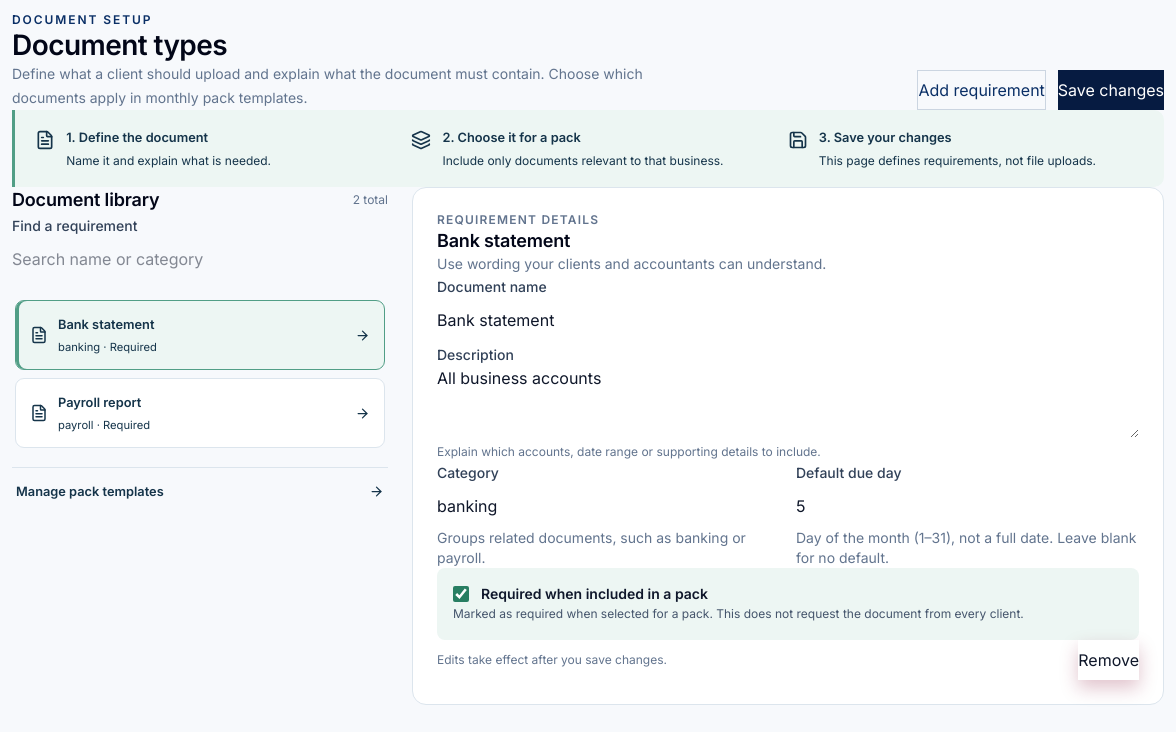
Scenario: admin required documents › keeps edits when switching documents and searching the library
This screenshot has width=1176, height=732.
Replace the text in the field showing "Bank statement" with "Updated statement": (788, 320) [437,298,1139,342]
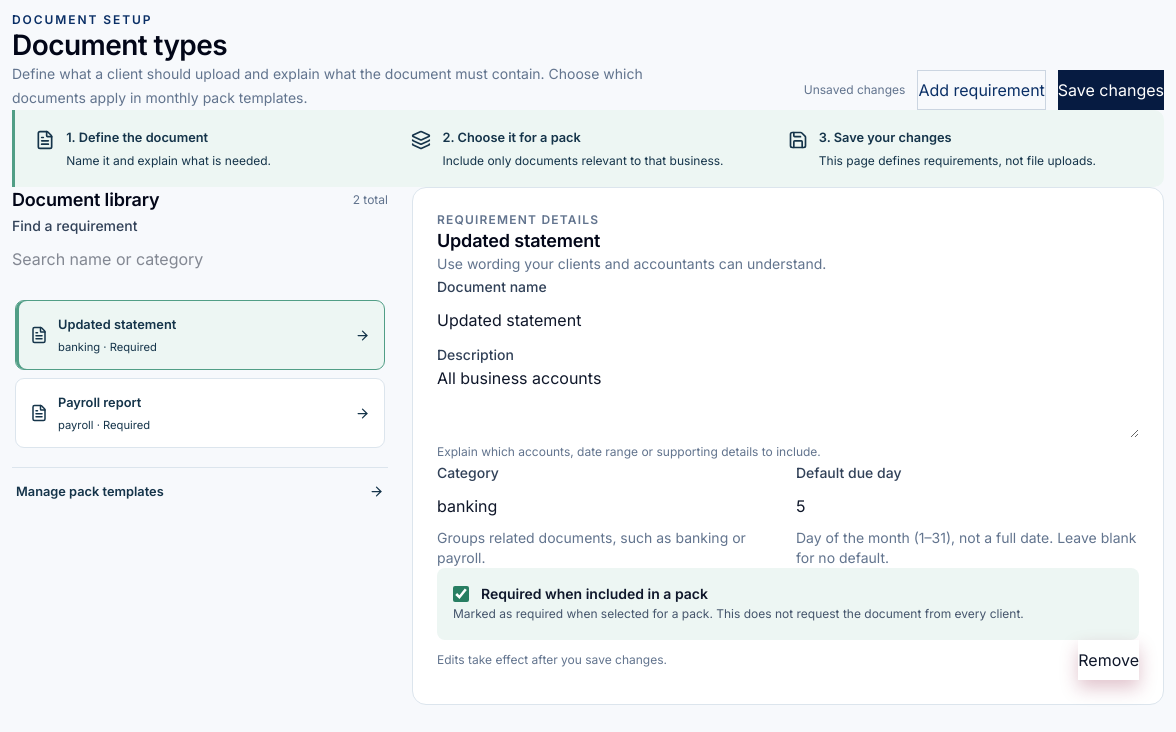
Click the button "Payroll report payroll · Required": (100, 402) [15,378,385,448]
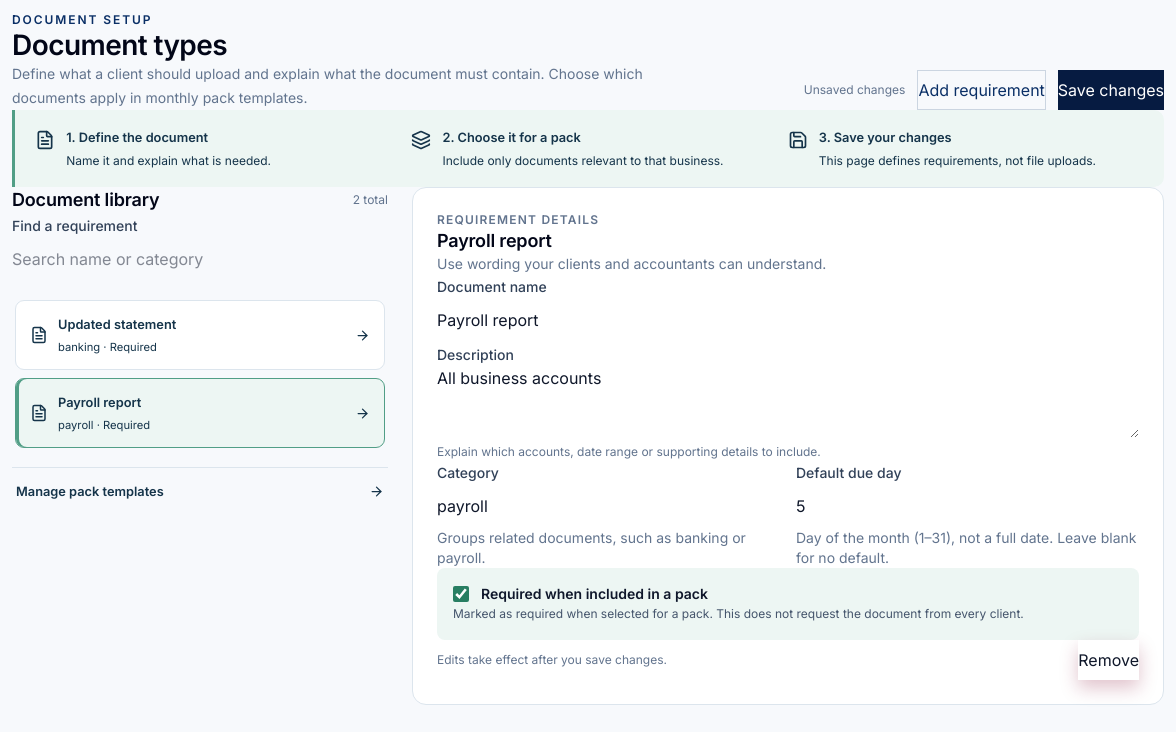
Expected: the field labelled "Document name" holds "Payroll report", [437,298,1139,342]
In the field labelled "Find a requirement": (200, 259) [12,237,388,281], type "banking"
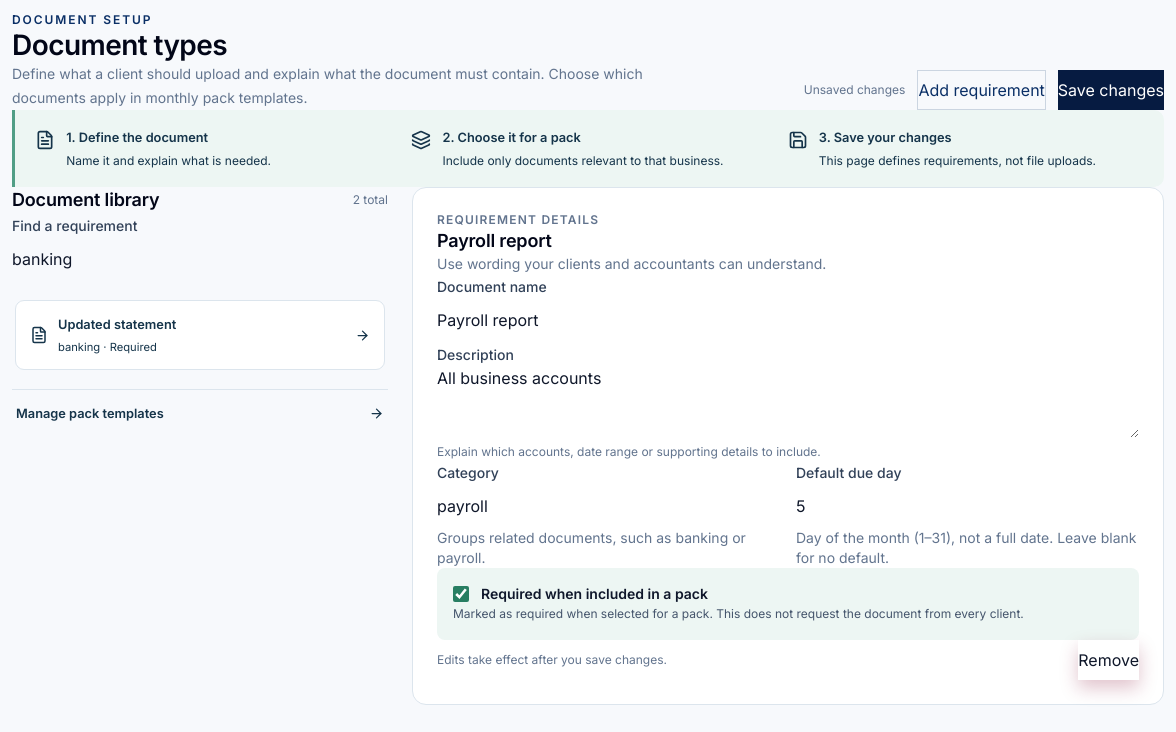
Click the button "Updated statement banking · Required": (117, 324) [15,300,385,370]
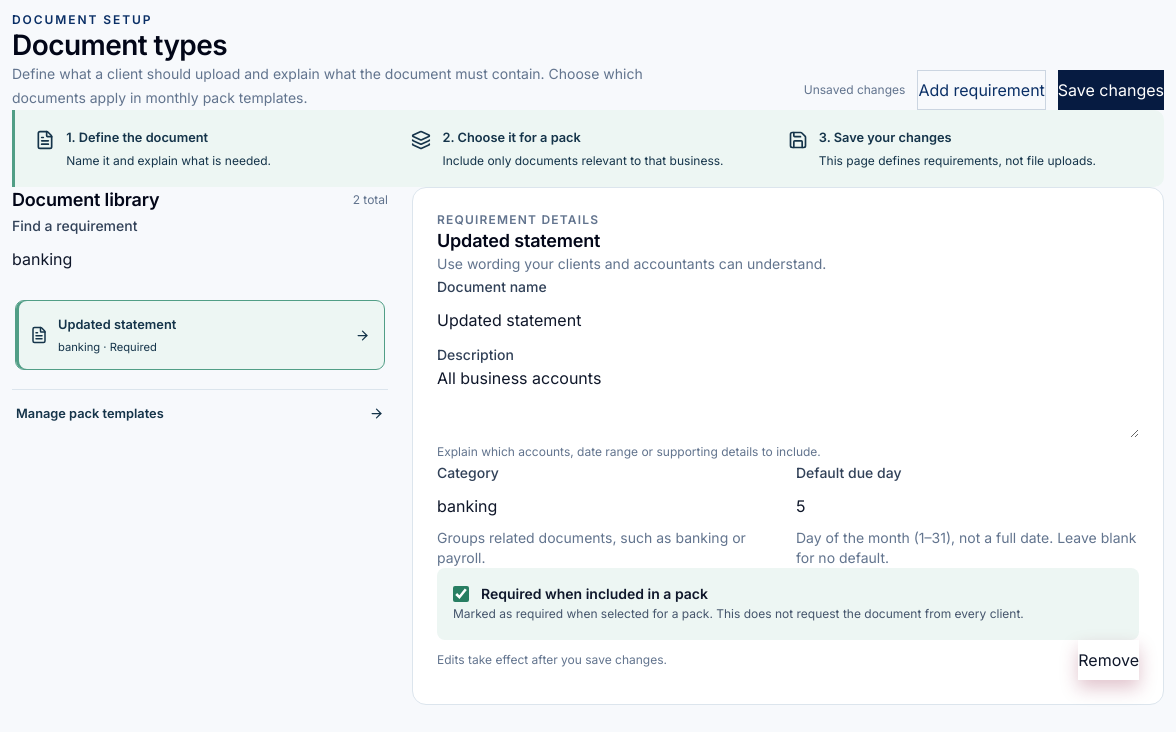
Expected: the field labelled "Document name" holds "Updated statement", [437,298,1139,342]
Click the button "Save changes": (1111, 90) [1058,70,1164,110]
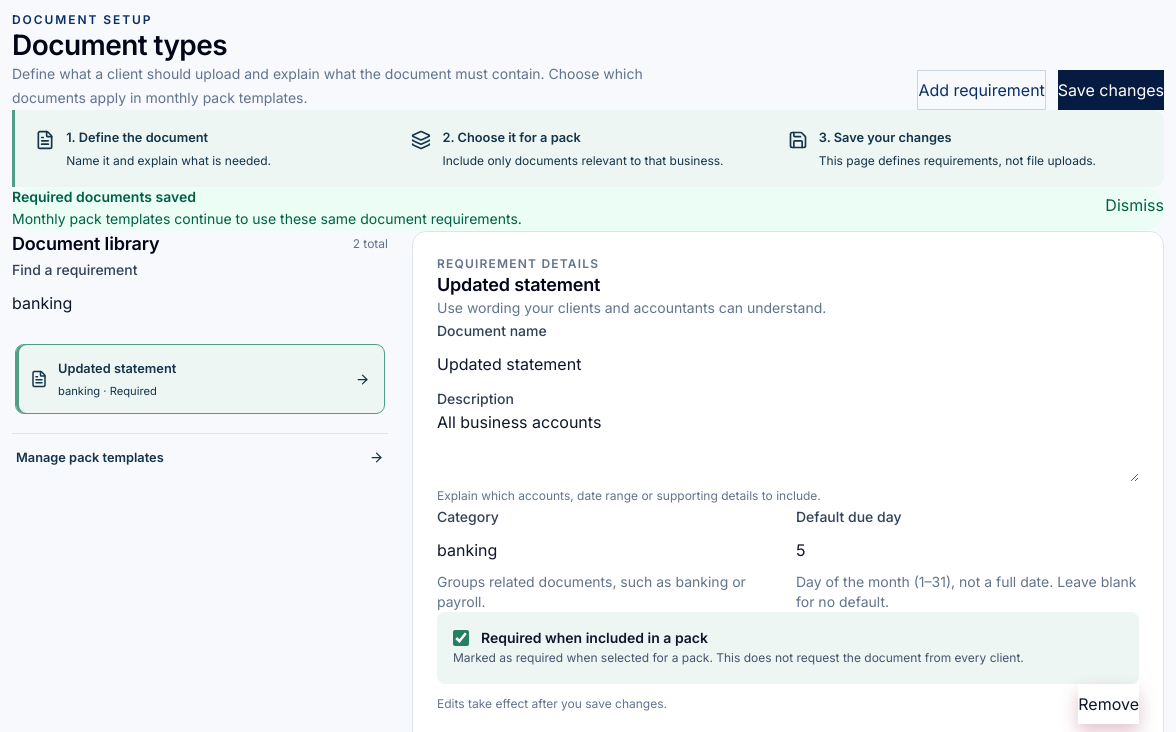
Expected: the text "Required documents saved" is shown, [12,188,196,205]
